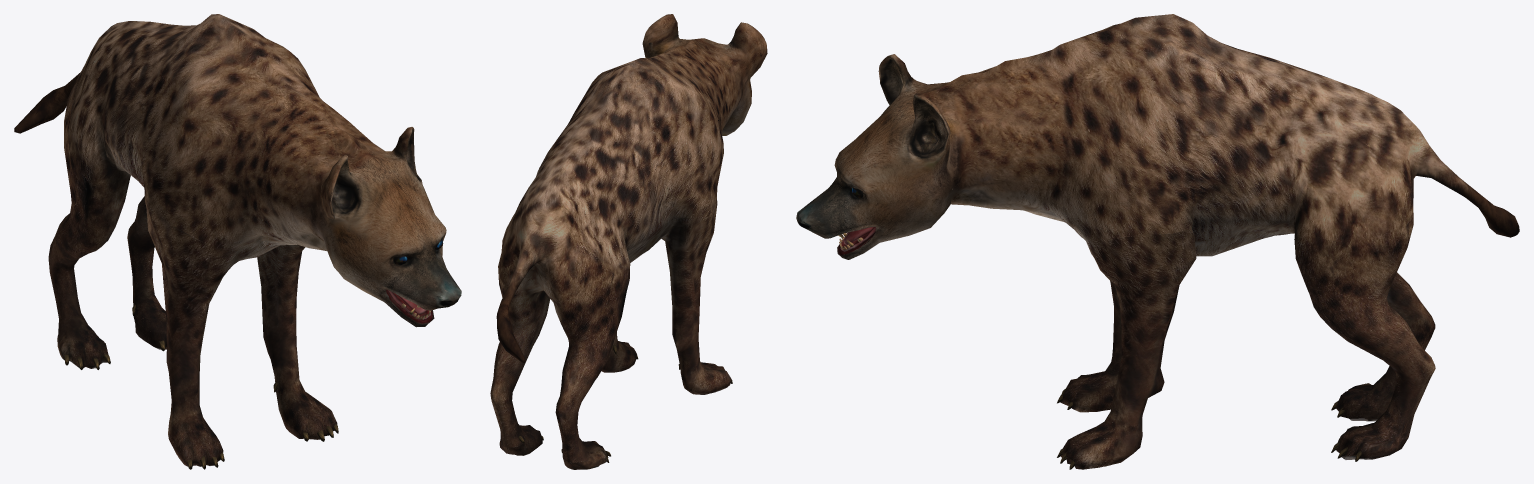
File: hyena.glb
3 renders of one model, left to right at view 1: azimuth 30°, elevation 25°; view 2: azimuth 150°, elevation 25°; view 3: azimuth 270°, elevation 25°, orthographic. The views are drawn at different scales.
Visible parts, largest first — view 1: Object_4; view 2: Object_4; view 3: Object_4.
Boxes of the visible parts, x1,y1,x2,y2 form: Object_4: (14,14,461,469); Object_4: (490,14,767,469); Object_4: (796,14,1519,469).
Bounding box in the file's own units: 0.4192 × 0.9368 × 1.45.
1 material, 1 textured.
